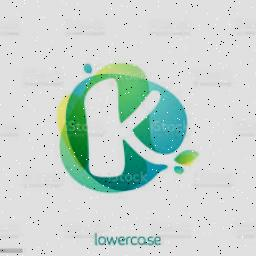k: (60, 65, 220, 205)
